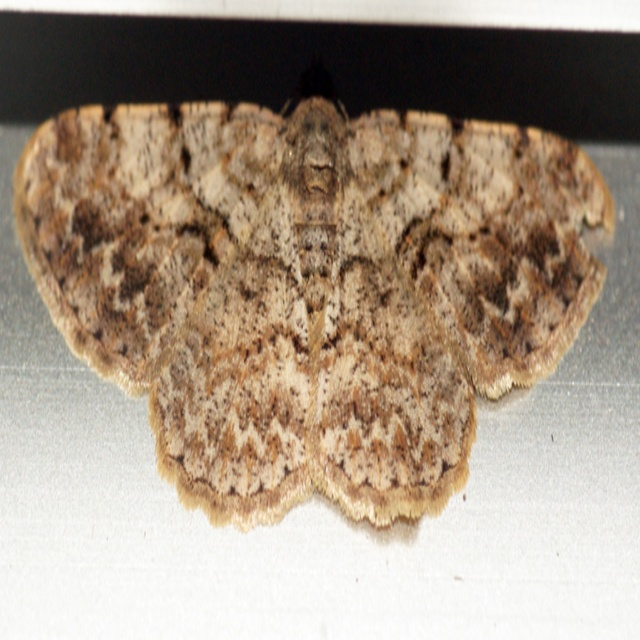Moths and butterflies: (15, 99, 613, 554)
